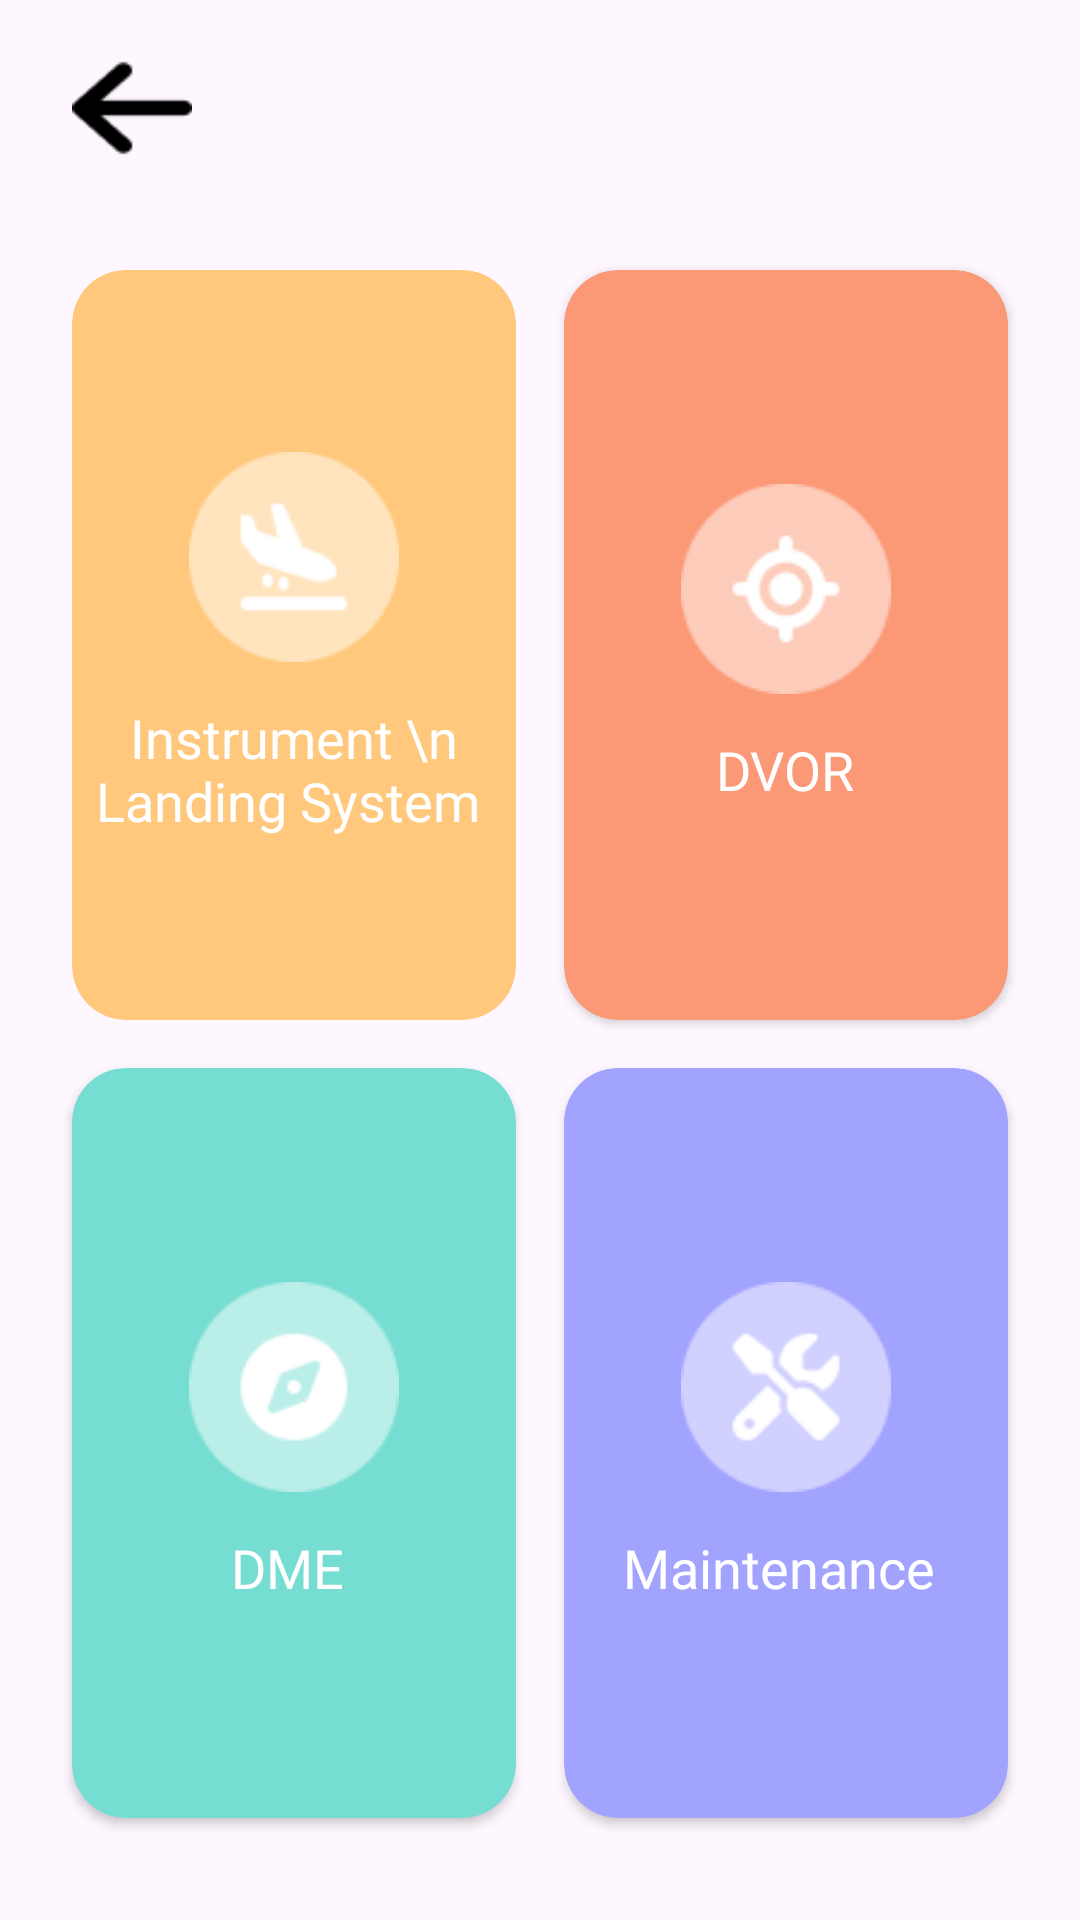

Icon click points for this 1080*1920 phone screenshot, format [x,y]:
arrow left: [132,108]
compa: [294,1387]
fix: [786,1387]
vor: [786,589]
